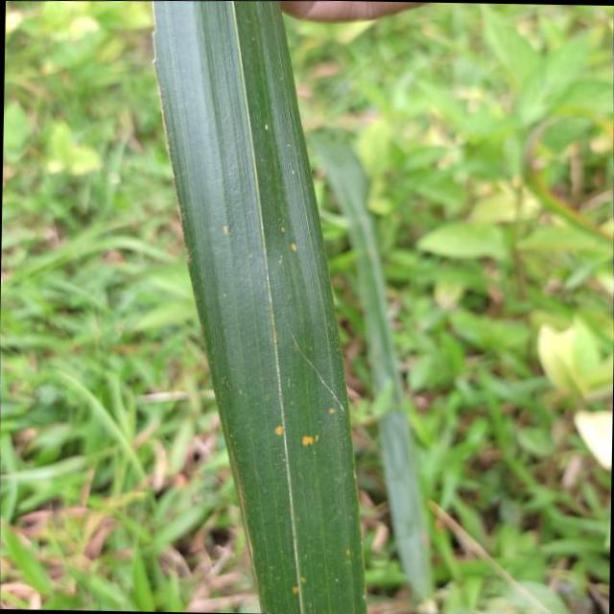Boron: (144, 0, 368, 612)
